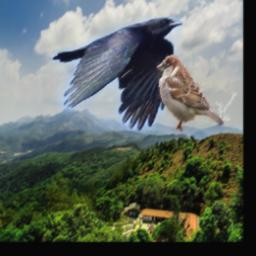Crow: (53, 17, 183, 131)
Sparrow: (157, 55, 224, 132)
